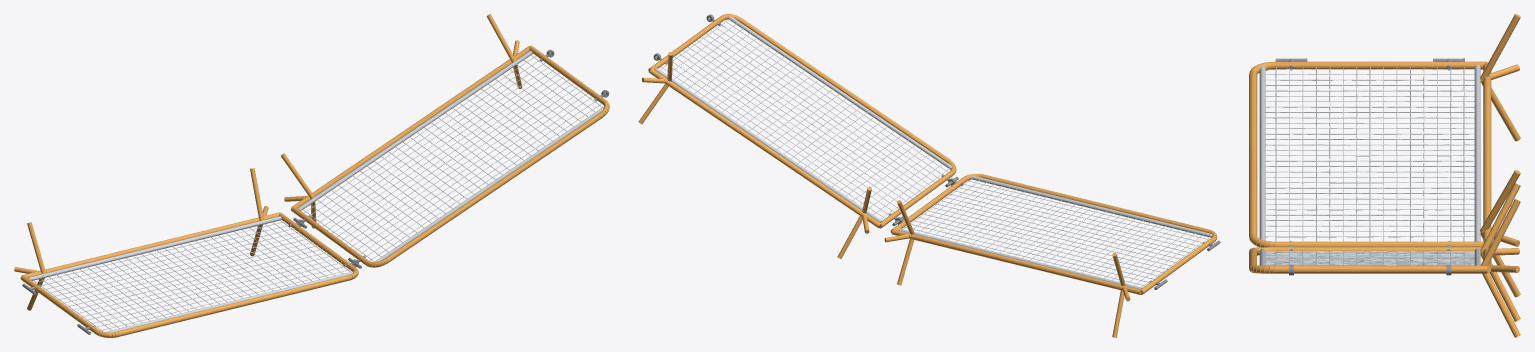
Rendered from material-panel_infill-brushed-silver-infill.glb.
3 views of the same model, side by side, from view 1: azimuth 30°, elevation 25°; view 2: azimuth 150°, elevation 25°; view 3: azimuth 270°, elevation 25° (orthographic). The views are drawn at different scales.
Parts seen in each view (by area): view 1: panel_0__infill, panel_0__frame, panel_0__eye_top; view 2: panel_0__infill, panel_0__frame, panel_0__eye_top; view 3: panel_0__infill, panel_0__frame, panel_0__eye_top.
Part boxes in pixels (x1,y1,x2,y2): panel_0__infill: (28,50,604,332); panel_0__frame: (14,14,609,337); panel_0__eye_top: (22,49,609,334); panel_0__infill: (655,16,1212,289); panel_0__frame: (638,14,1217,337); panel_0__eye_top: (653,14,1220,289); panel_0__infill: (1259,65,1480,265); panel_0__frame: (1249,14,1520,337); panel_0__eye_top: (1275,58,1464,275).
Size of the model in its own units: 4.09 by 1.37 by 1.28.
